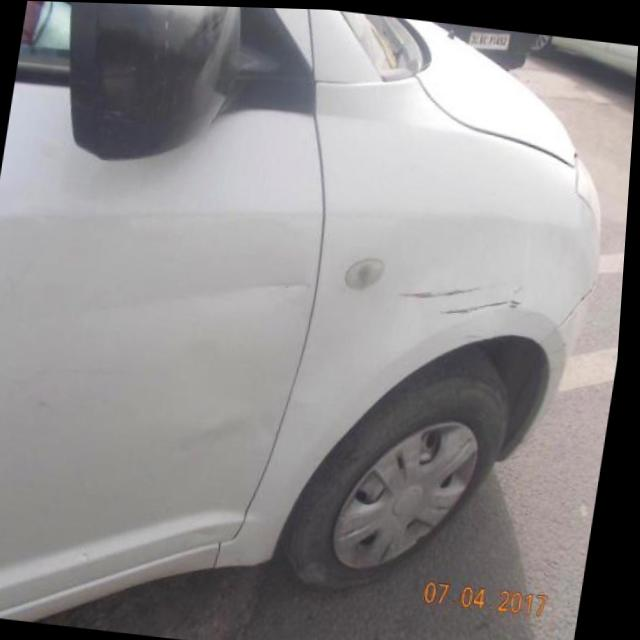Car-Damage: (76, 245, 319, 343), (178, 342, 296, 475), (444, 272, 533, 323), (35, 355, 141, 393), (404, 266, 490, 308), (37, 394, 62, 412)
